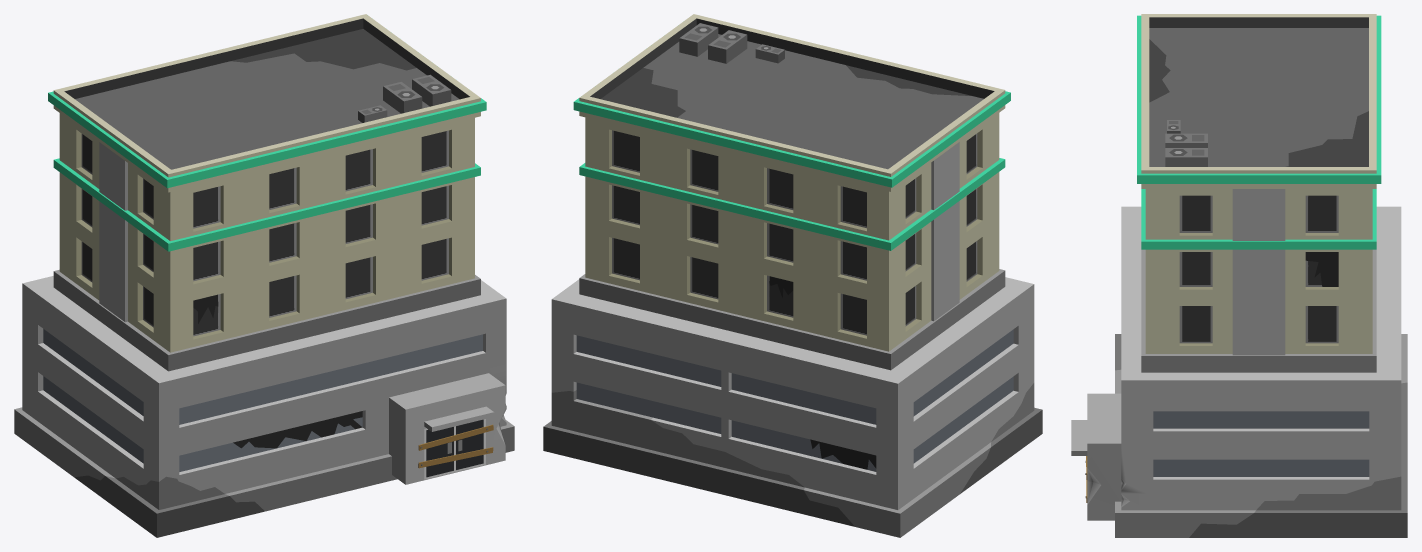
File: SA_Bld_HospitalBuilding_Damaged_01.gltf
3 views of the same model, side by side, from view 1: azimuth 30°, elevation 25°; view 2: azimuth 150°, elevation 25°; view 3: azimuth 270°, elevation 25° (orthographic). The views are drawn at different scales.
Visible parts, largest first — view 1: SA_Bld_HospitalBuilding_Damaged_01; view 2: SA_Bld_HospitalBuilding_Damaged_01; view 3: SA_Bld_HospitalBuilding_Damaged_01.
Boxes of the visible parts, x1,y1,x2,y2 form: SA_Bld_HospitalBuilding_Damaged_01: (14,14,514,537); SA_Bld_HospitalBuilding_Damaged_01: (543,14,1042,537); SA_Bld_HospitalBuilding_Damaged_01: (1071,14,1407,537).
Bounding box in the file's own units: 27.13 × 25.52 × 21.53.
Materials: 1 (1 with a texture image).
